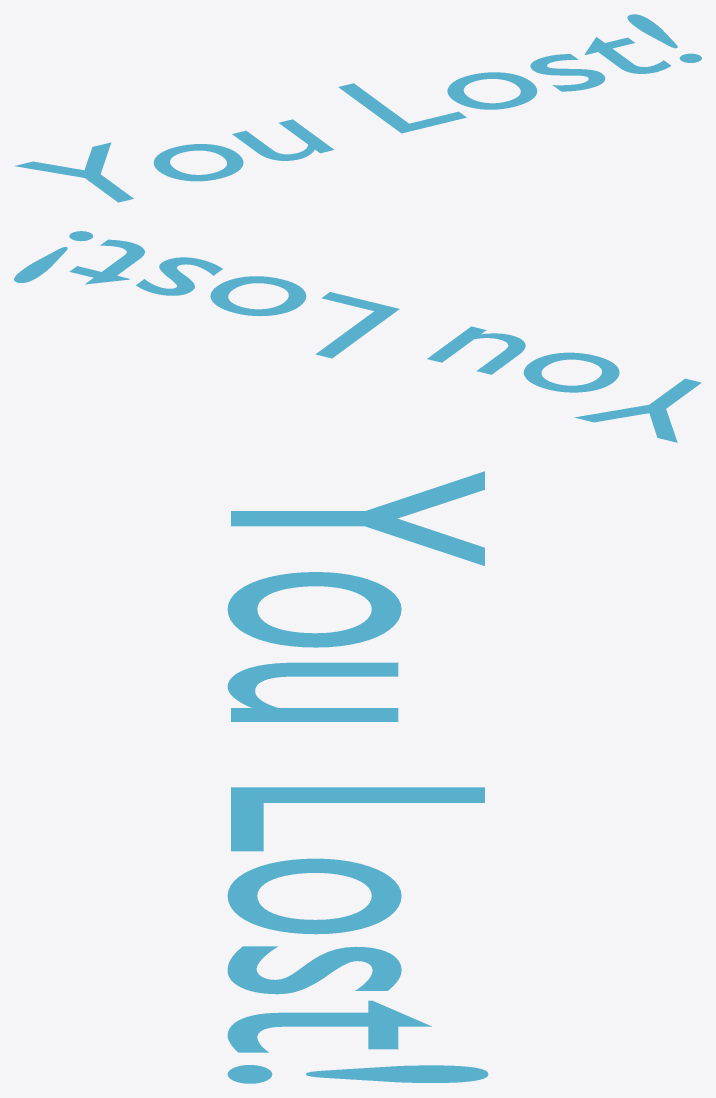
3 views of the same model, one above another, from view 1: azimuth 30°, elevation 25°; view 2: azimuth 150°, elevation 25°; view 3: azimuth 270°, elevation 25° (orthographic). The views are drawn at different scales.
Visible parts, largest first — view 1: Text; view 2: Text; view 3: Text.
Part boxes in pixels (x1,y1,x2,y2): Text: (14, 14, 701, 202); Text: (14, 231, 701, 442); Text: (227, 471, 488, 1083).
Bounding box in the file's own units: 19.45 × 0 × 3.5.
